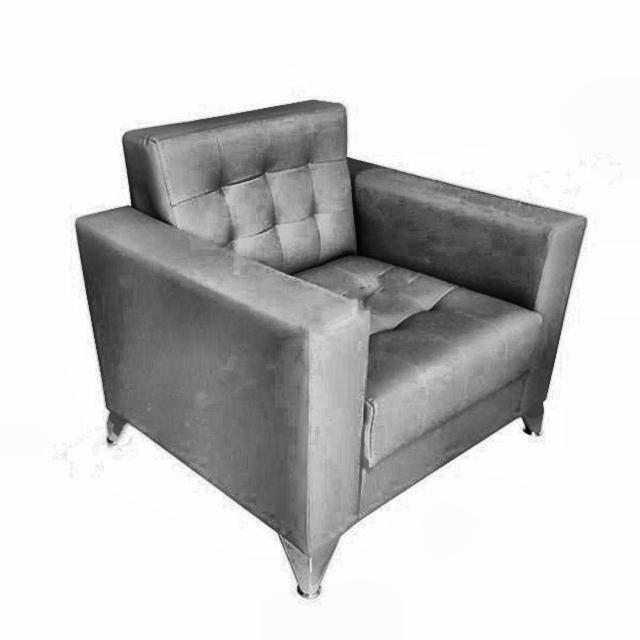sofa: (73, 97, 588, 599)
